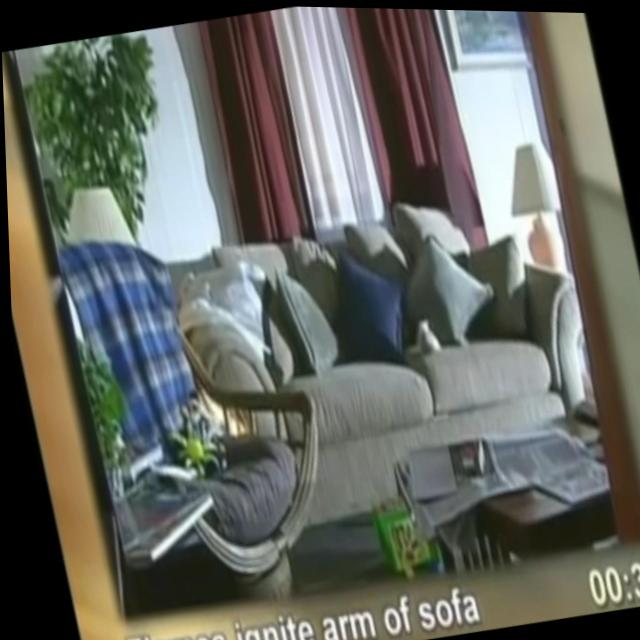fire: (192, 376, 238, 438)
